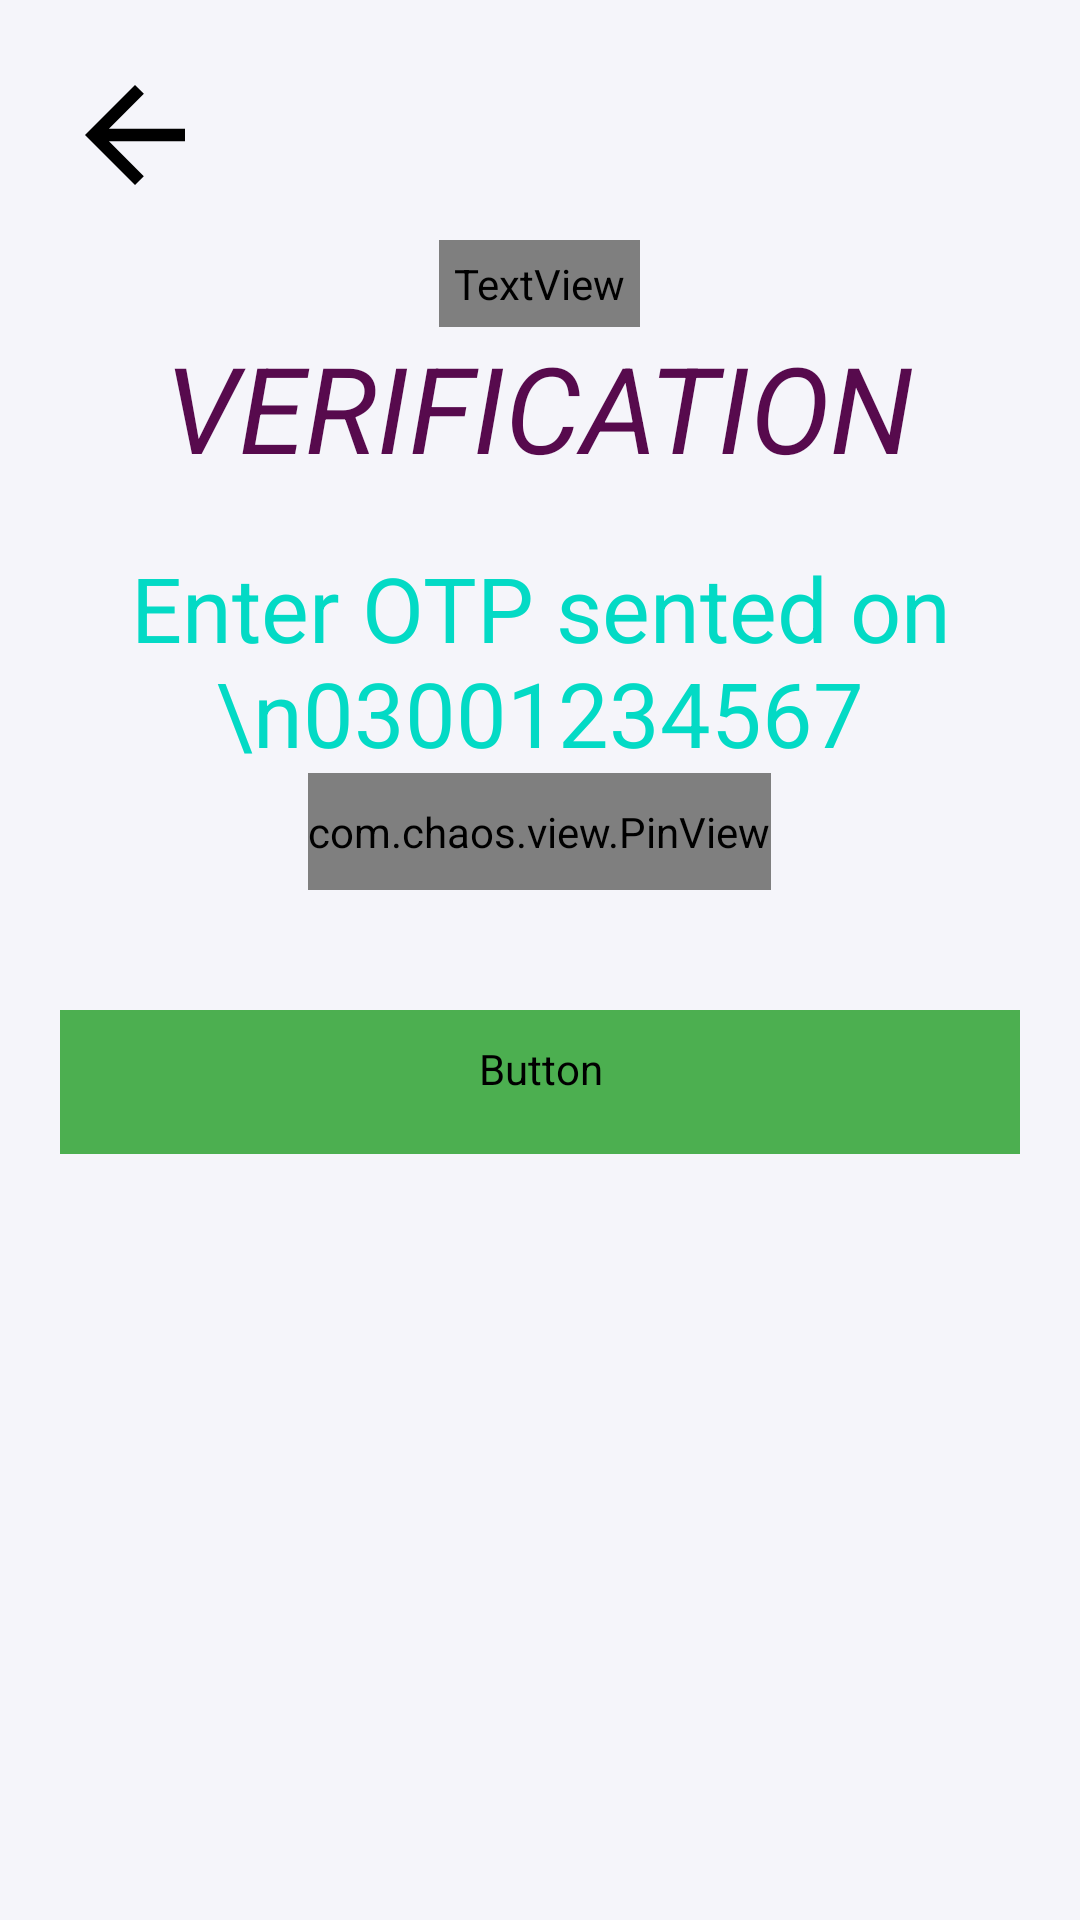

Where to tap for icons on this 1080x1920 app screen, as point (x, y):
arrow back: point (135, 135)
